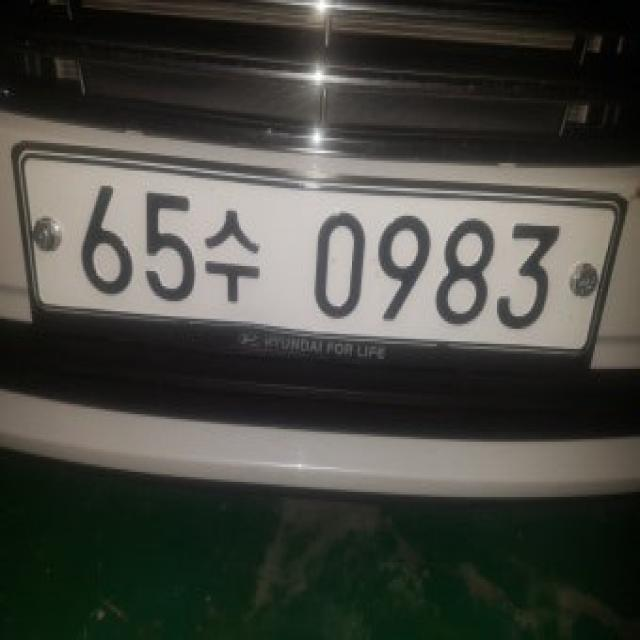car: (5, 129, 637, 410)
